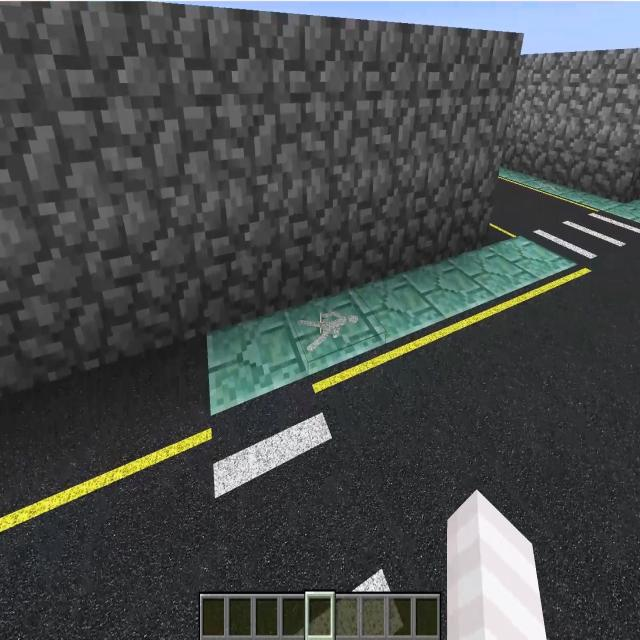crosswalk: (210, 378, 399, 590), (524, 207, 640, 266)
road: (315, 244, 635, 638), (1, 348, 201, 636), (495, 182, 587, 233)
sidewalk: (208, 234, 573, 412), (499, 167, 640, 223)
